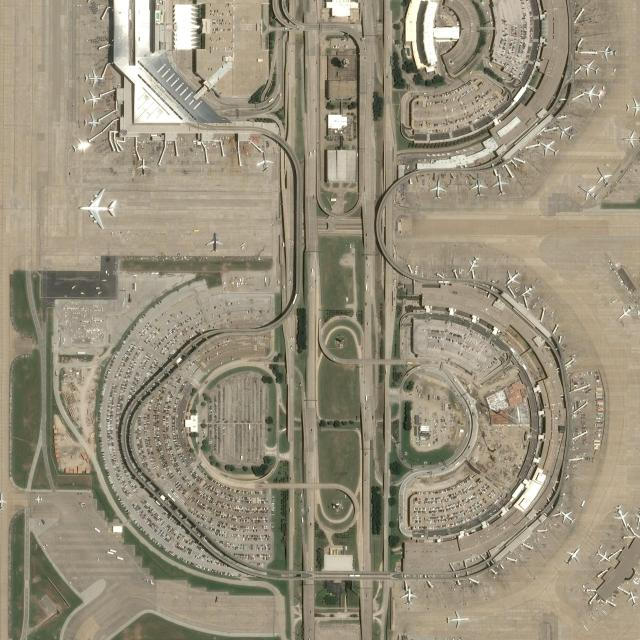1: (621, 131, 639, 147), (624, 98, 640, 114), (0, 492, 7, 510), (634, 508, 640, 525)
aircraft: (77, 188, 116, 229), (446, 610, 468, 628), (83, 69, 103, 88), (492, 173, 508, 196), (469, 178, 487, 198), (582, 84, 602, 102), (205, 232, 223, 252), (538, 140, 560, 156), (82, 113, 101, 131), (578, 183, 598, 200), (595, 166, 612, 186), (596, 43, 616, 60), (82, 91, 102, 108), (612, 505, 628, 526), (430, 180, 446, 199), (399, 588, 418, 604), (257, 152, 272, 172), (72, 137, 89, 154), (580, 60, 598, 76), (564, 547, 580, 564), (559, 508, 575, 524), (557, 124, 574, 139), (618, 305, 634, 320), (505, 270, 520, 286), (137, 158, 150, 176), (626, 590, 638, 606), (468, 256, 478, 273), (596, 550, 610, 562), (521, 284, 535, 296), (34, 494, 42, 504)
